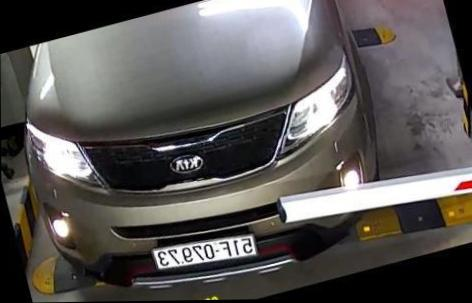License_Plate: (148, 224, 261, 278)
